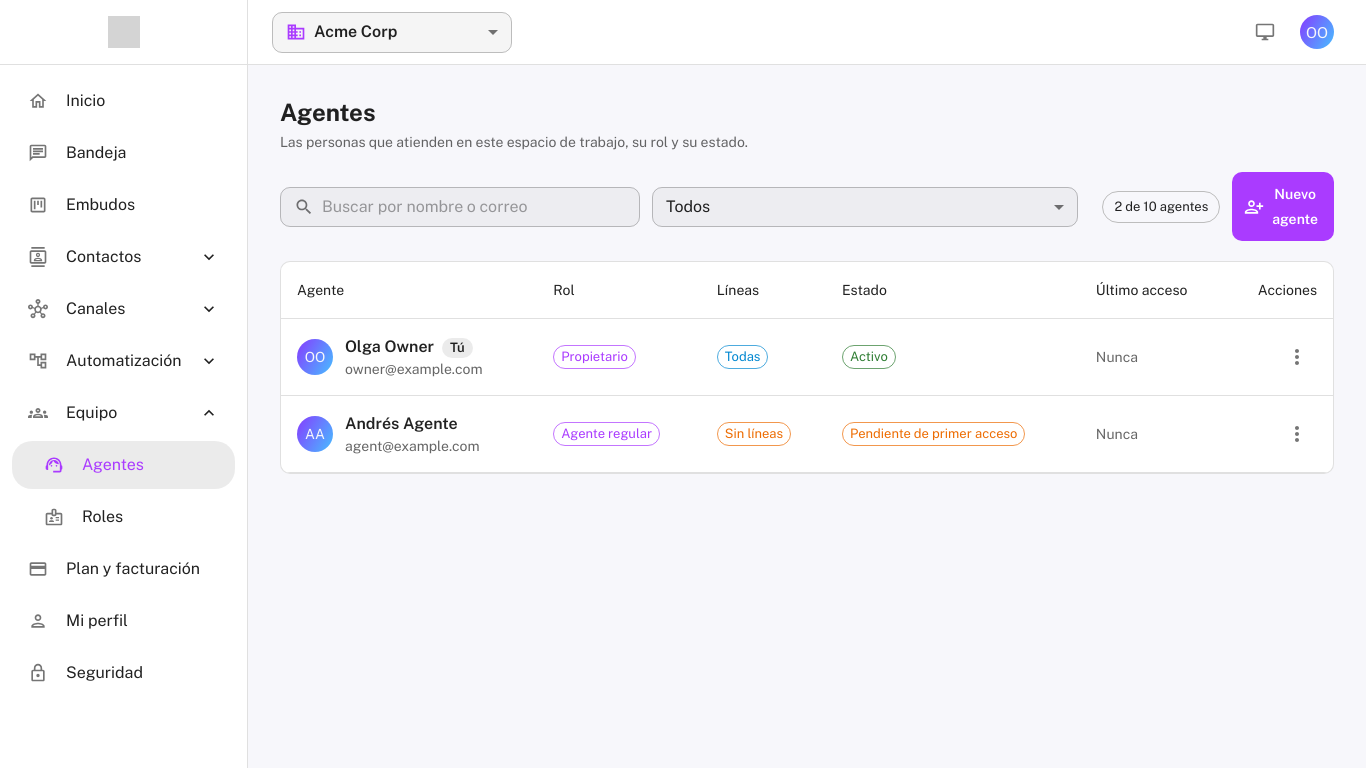
Test case: Team: members › shows the lines of each agent and assigns them
This screenshot has width=1366, height=768.
Expected: the text "Sin líneas" is shown, [725,426,783,441]
Expected: the text "Todas" is shown, [725,349,760,364]
Click the button named "Acciones para Andrés Agente" at (1297, 434), box [1277,414,1317,454]
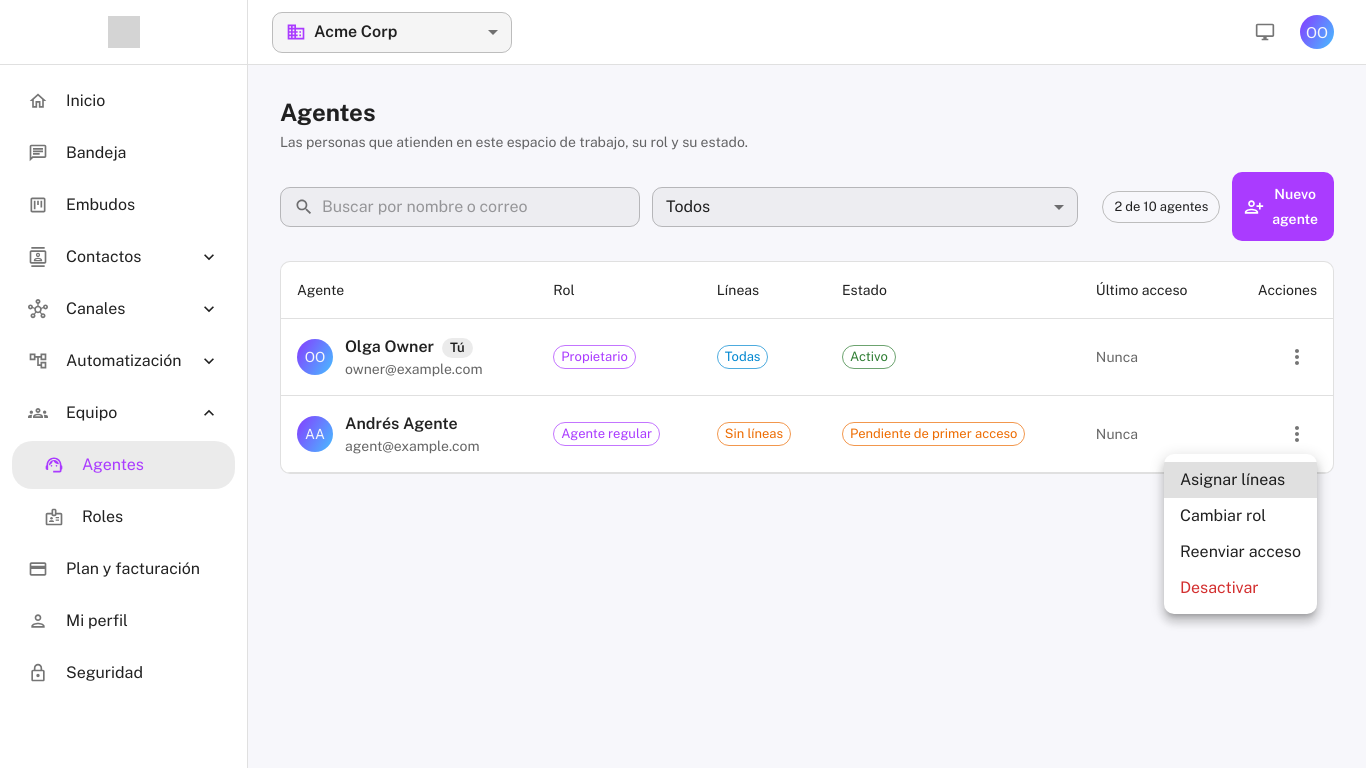
Click the menu item "Asignar líneas" at (1240, 480), box [1164,462,1317,498]
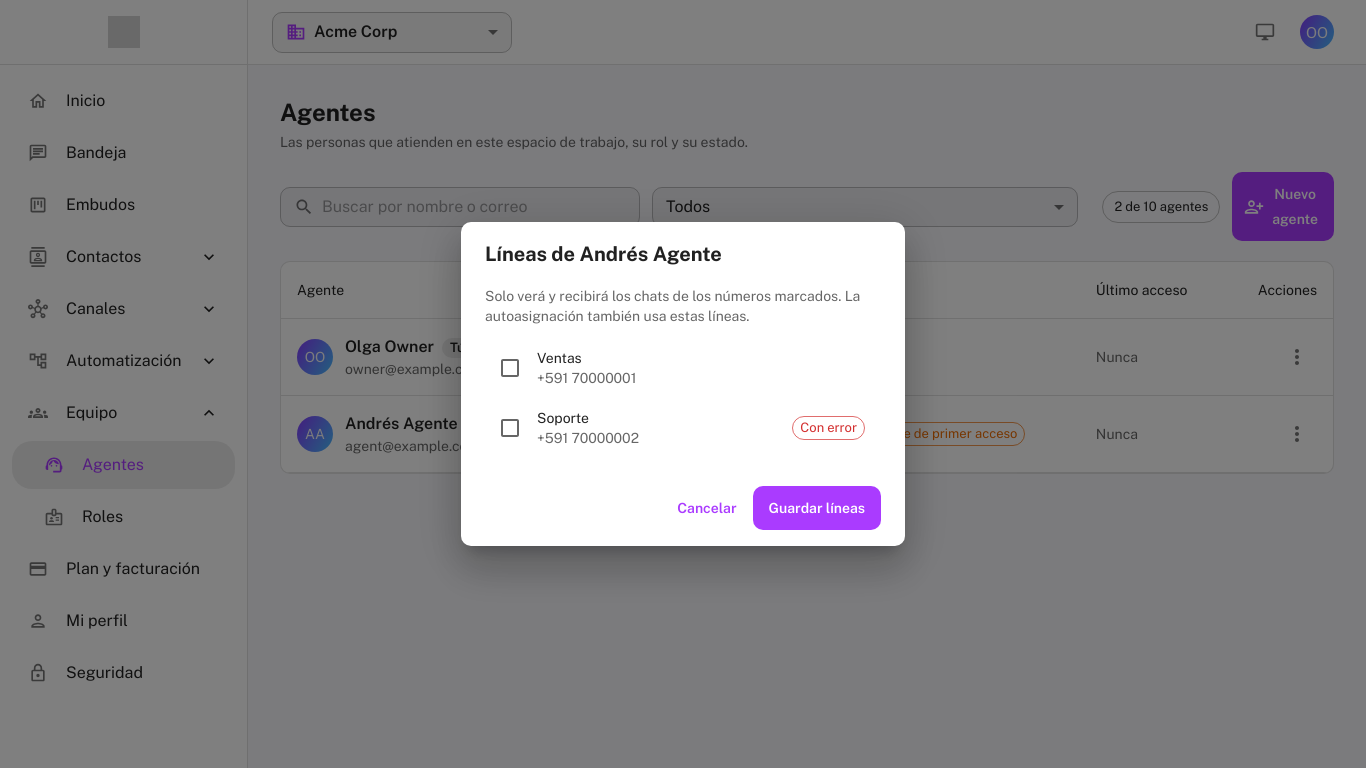
Expected: the text "Con error" is shown, [800,420,857,435]
Click the checkbox named "Ventas" at (510, 368), box [498,356,522,380]
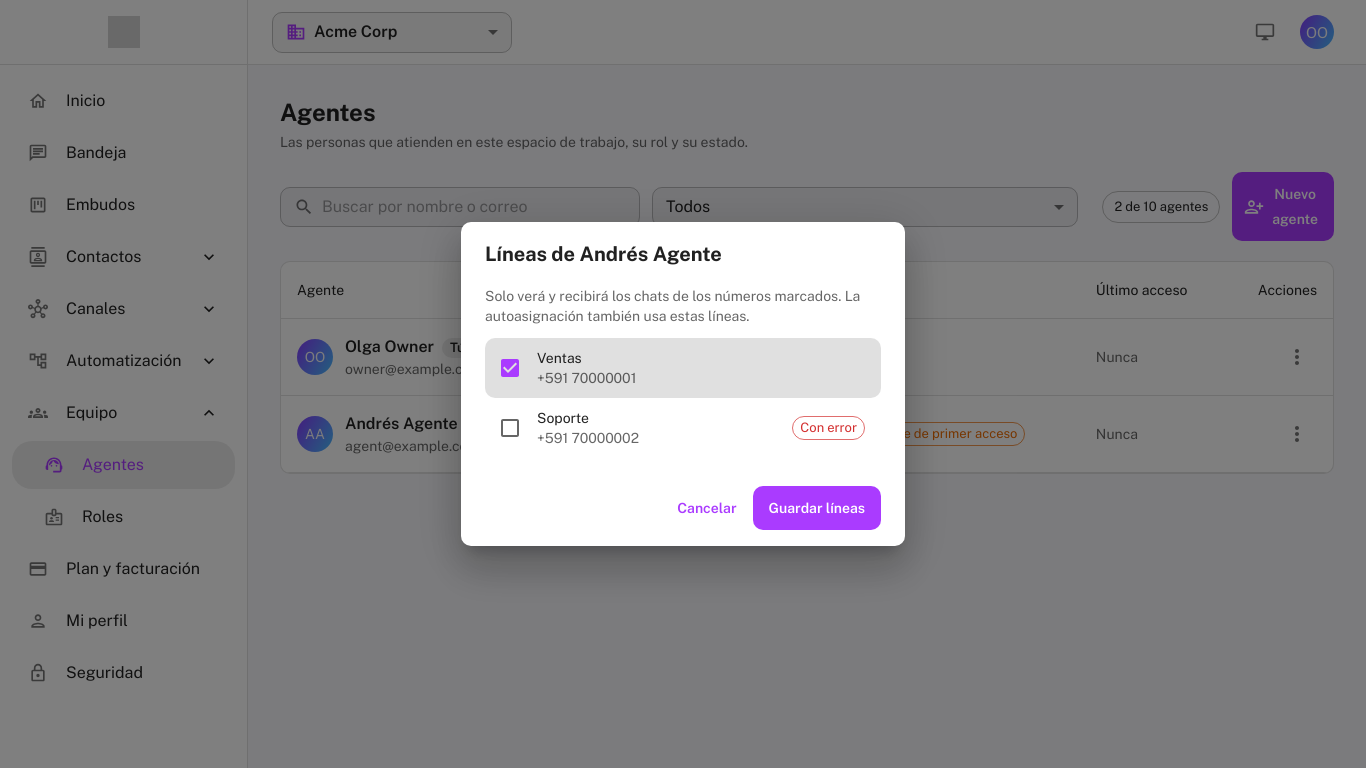
Click the button "Guardar líneas" at (817, 508), box [752,486,881,530]
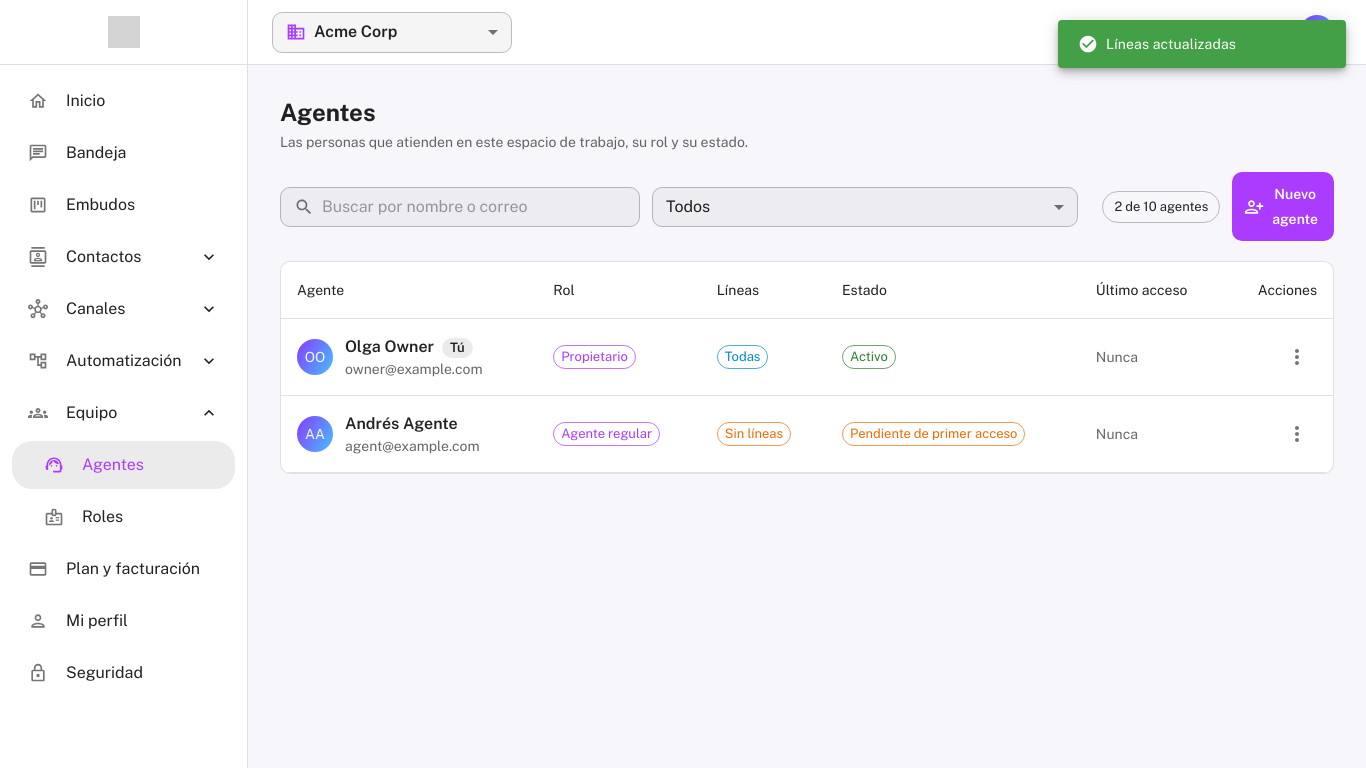
Expected: the text "Líneas actualizadas" is shown, [1078,34,1236,54]
